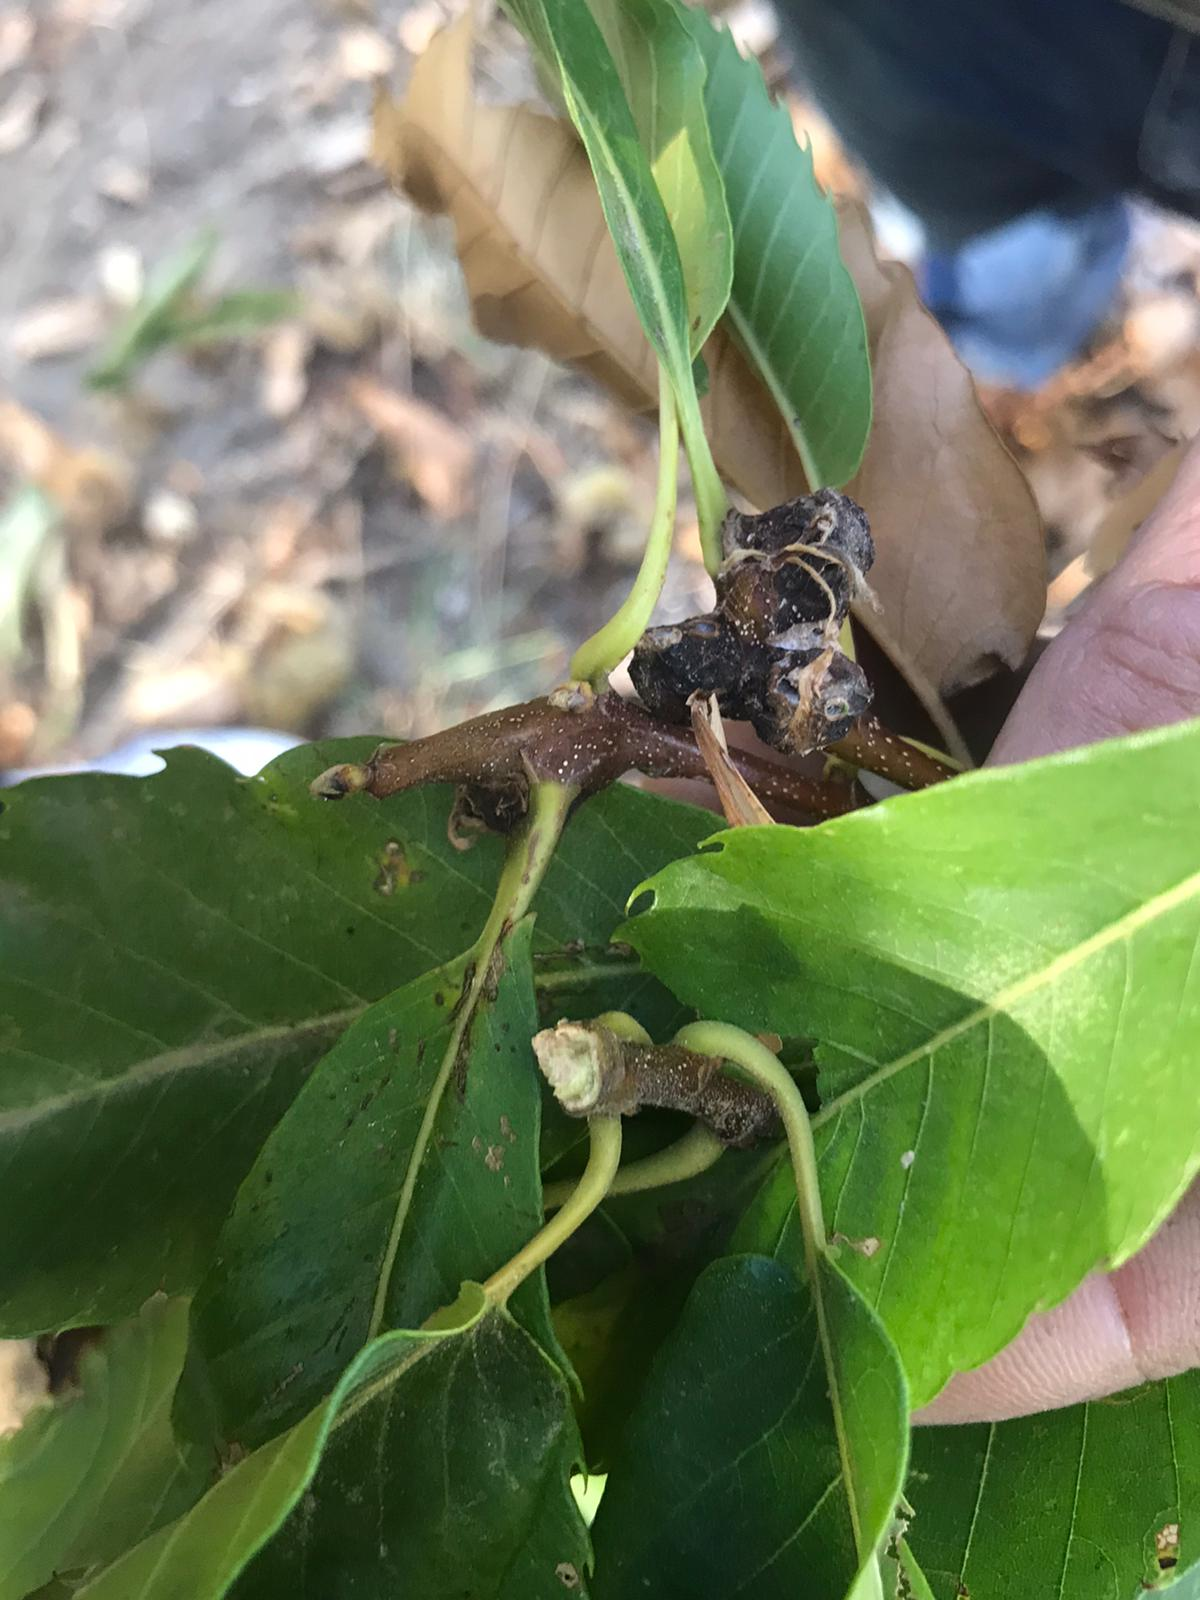galarisi: (469, 464, 890, 1125)
